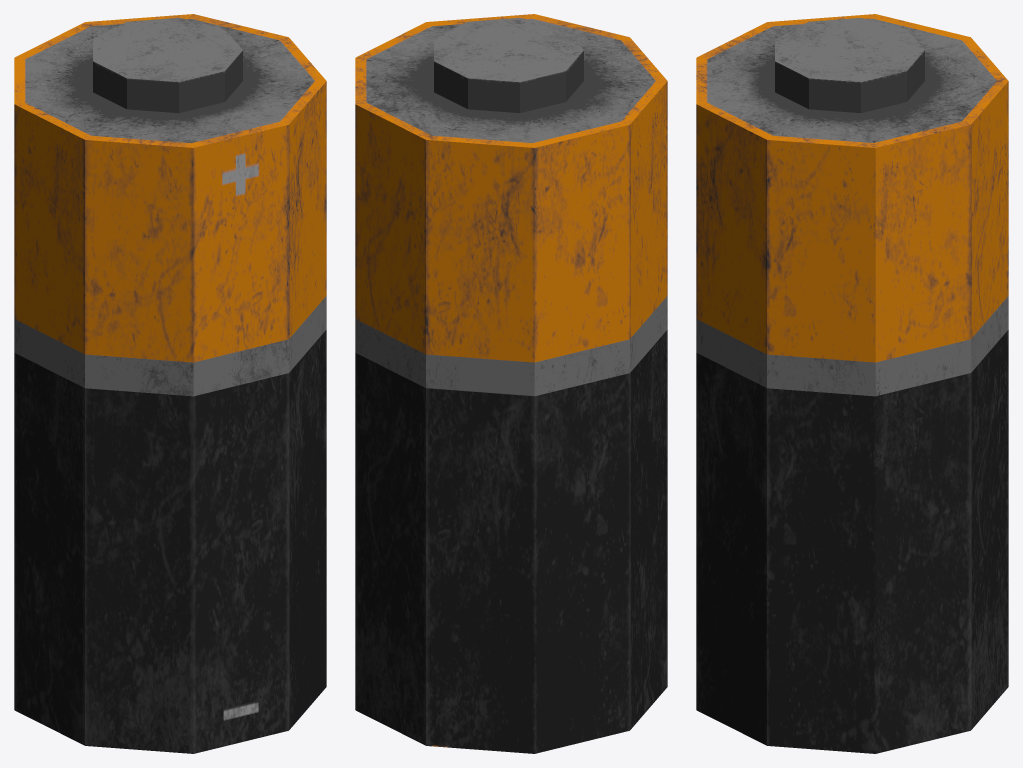
Rendered from Battery.fbx.
3 renders of one model, left to right at view 1: azimuth 30°, elevation 25°; view 2: azimuth 150°, elevation 25°; view 3: azimuth 270°, elevation 25°, orthographic.
Visible parts, largest first — view 1: Cylinder; view 2: Cylinder; view 3: Cylinder.
Part boxes in pixels (x1,y1,x2,y2): Cylinder: (14, 14, 326, 753); Cylinder: (355, 14, 667, 753); Cylinder: (696, 14, 1008, 753).
Bounding box in the file's own units: 15.42 × 34.19 × 15.19.
